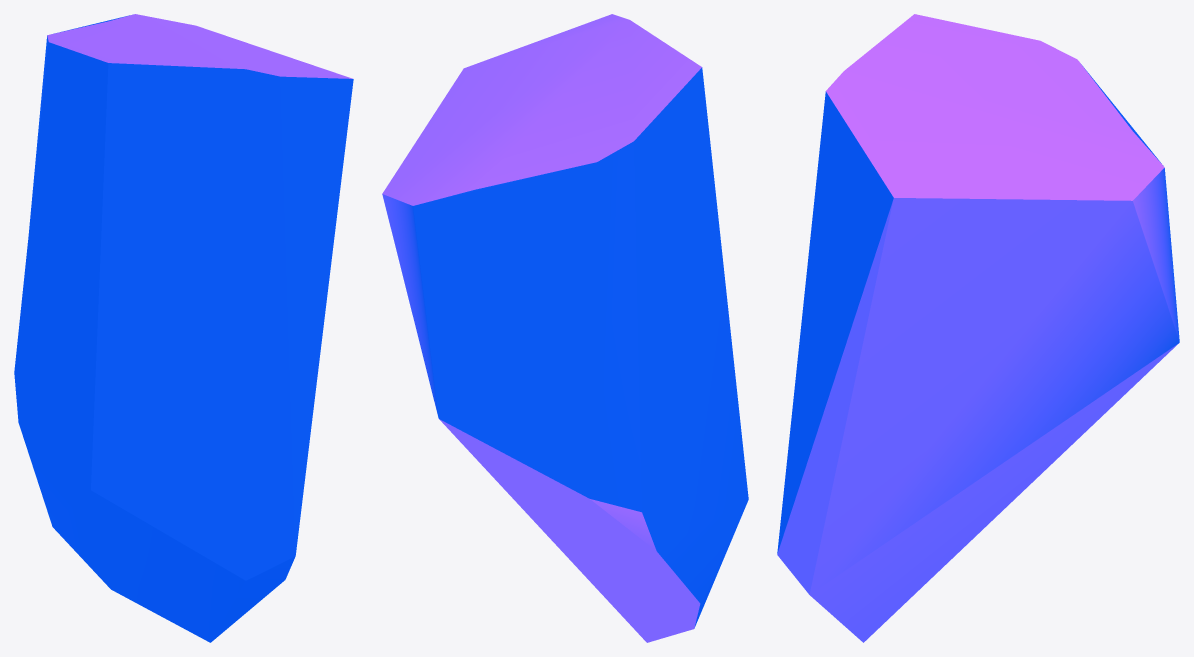
Rendered from p_mesh_voxelmaterials_voxelmineral03.fbx.
3 views of the same model, side by side, from view 1: azimuth 30°, elevation 25°; view 2: azimuth 150°, elevation 25°; view 3: azimuth 270°, elevation 25° (orthographic). The views are drawn at different scales.
Parts seen in each view (by area): view 1: p_mesh_crystalshard_voxel03_lp; view 2: p_mesh_crystalshard_voxel03_lp; view 3: p_mesh_crystalshard_voxel03_lp.
Boxes of the visible parts, box(x1,y1,x2,y2) form: p_mesh_crystalshard_voxel03_lp: box(14, 14, 353, 642); p_mesh_crystalshard_voxel03_lp: box(382, 14, 748, 642); p_mesh_crystalshard_voxel03_lp: box(777, 14, 1179, 642).
Bounding box in the file's own units: 0.3841 × 0.8012 × 0.495.
